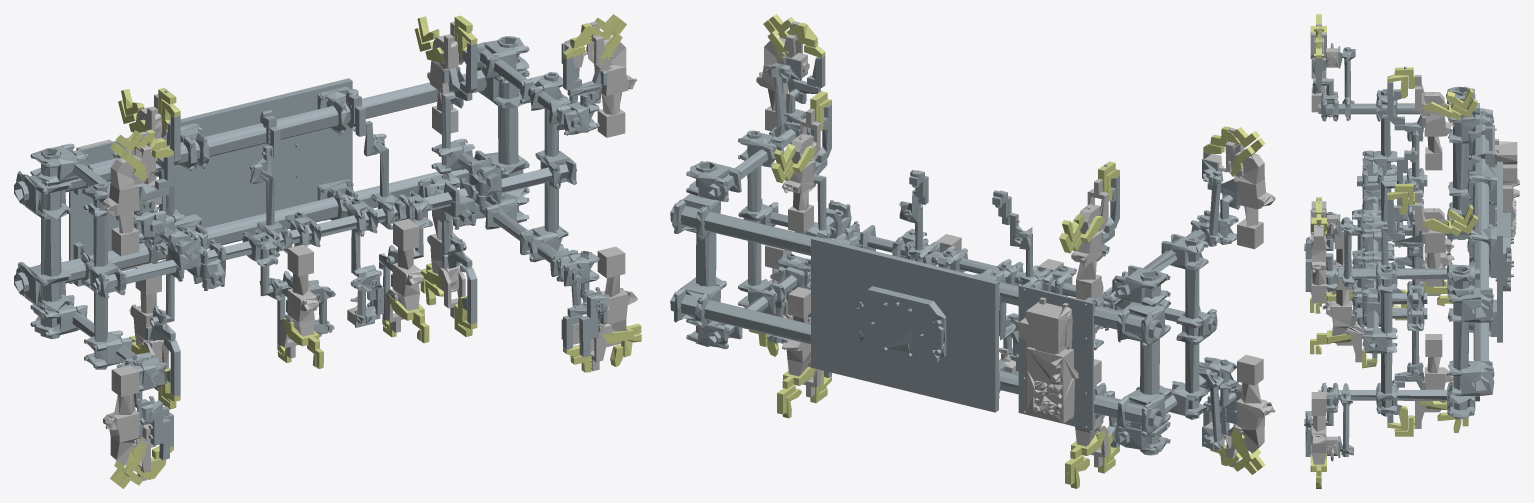
Rendered from gripper.glb.
3 views of the same model, side by side, from view 1: azimuth 30°, elevation 25°; view 2: azimuth 150°, elevation 25°; view 3: azimuth 270°, elevation 25° (orthographic). The views are drawn at different scales.
Size of the model in its own units: 1694 by 1063 by 733.
